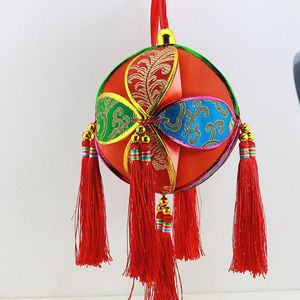xiuqiu: (96, 46, 241, 195)
